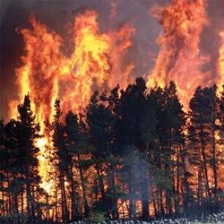fire: (8, 6, 224, 199)
